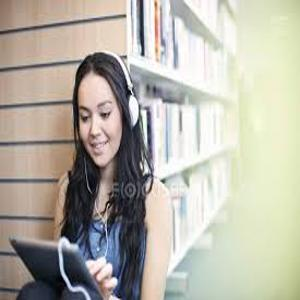Headphones: (75, 51, 140, 126)
